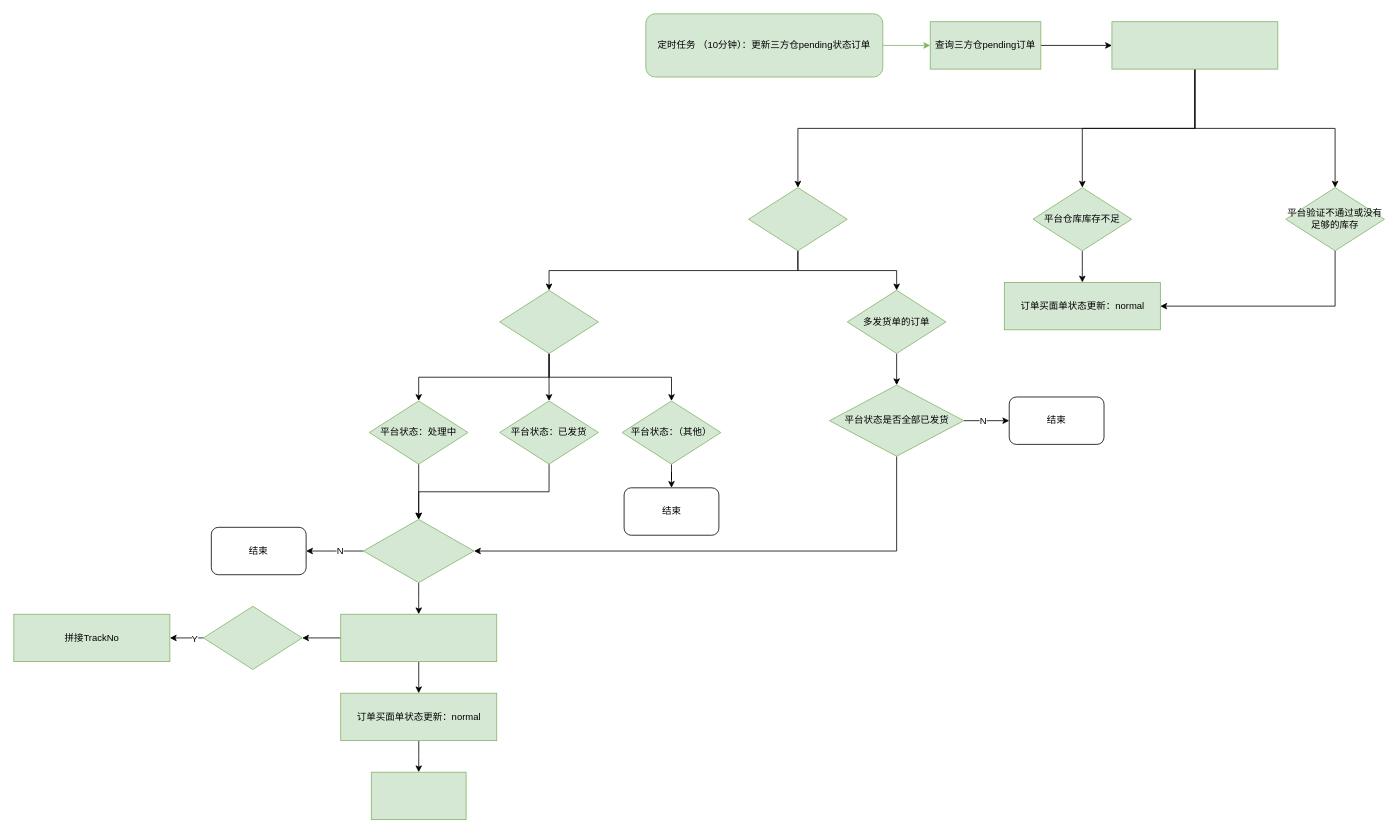
The diagram is 1398 pixels wide and 833 high, and some of its shapes have lost their labels. Each missing label, with the box of its shape:
包裹中是否存在运单号: (363, 519, 474, 583)
单发货单的订单: (499, 290, 598, 354)
平台仓库已发货: (748, 187, 847, 251)
是否多包裹: (203, 606, 302, 670)
更新订单TrackNo: (340, 613, 497, 662)
获取Amazon订单状态（Amazon:getFulfillmentOrder接口）: (1111, 21, 1278, 69)
触发一下订单标发: (371, 771, 466, 820)
